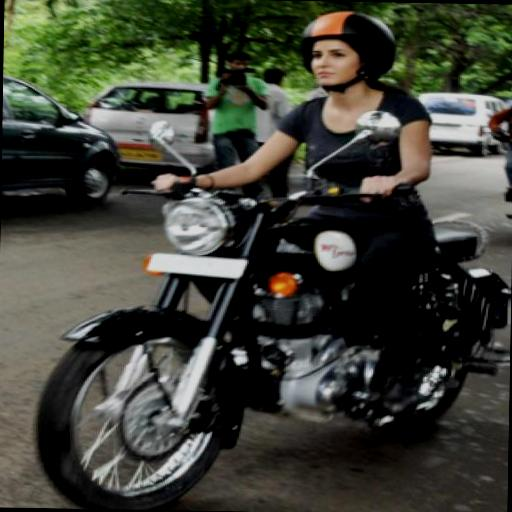helmet: (79, 0, 451, 511)
